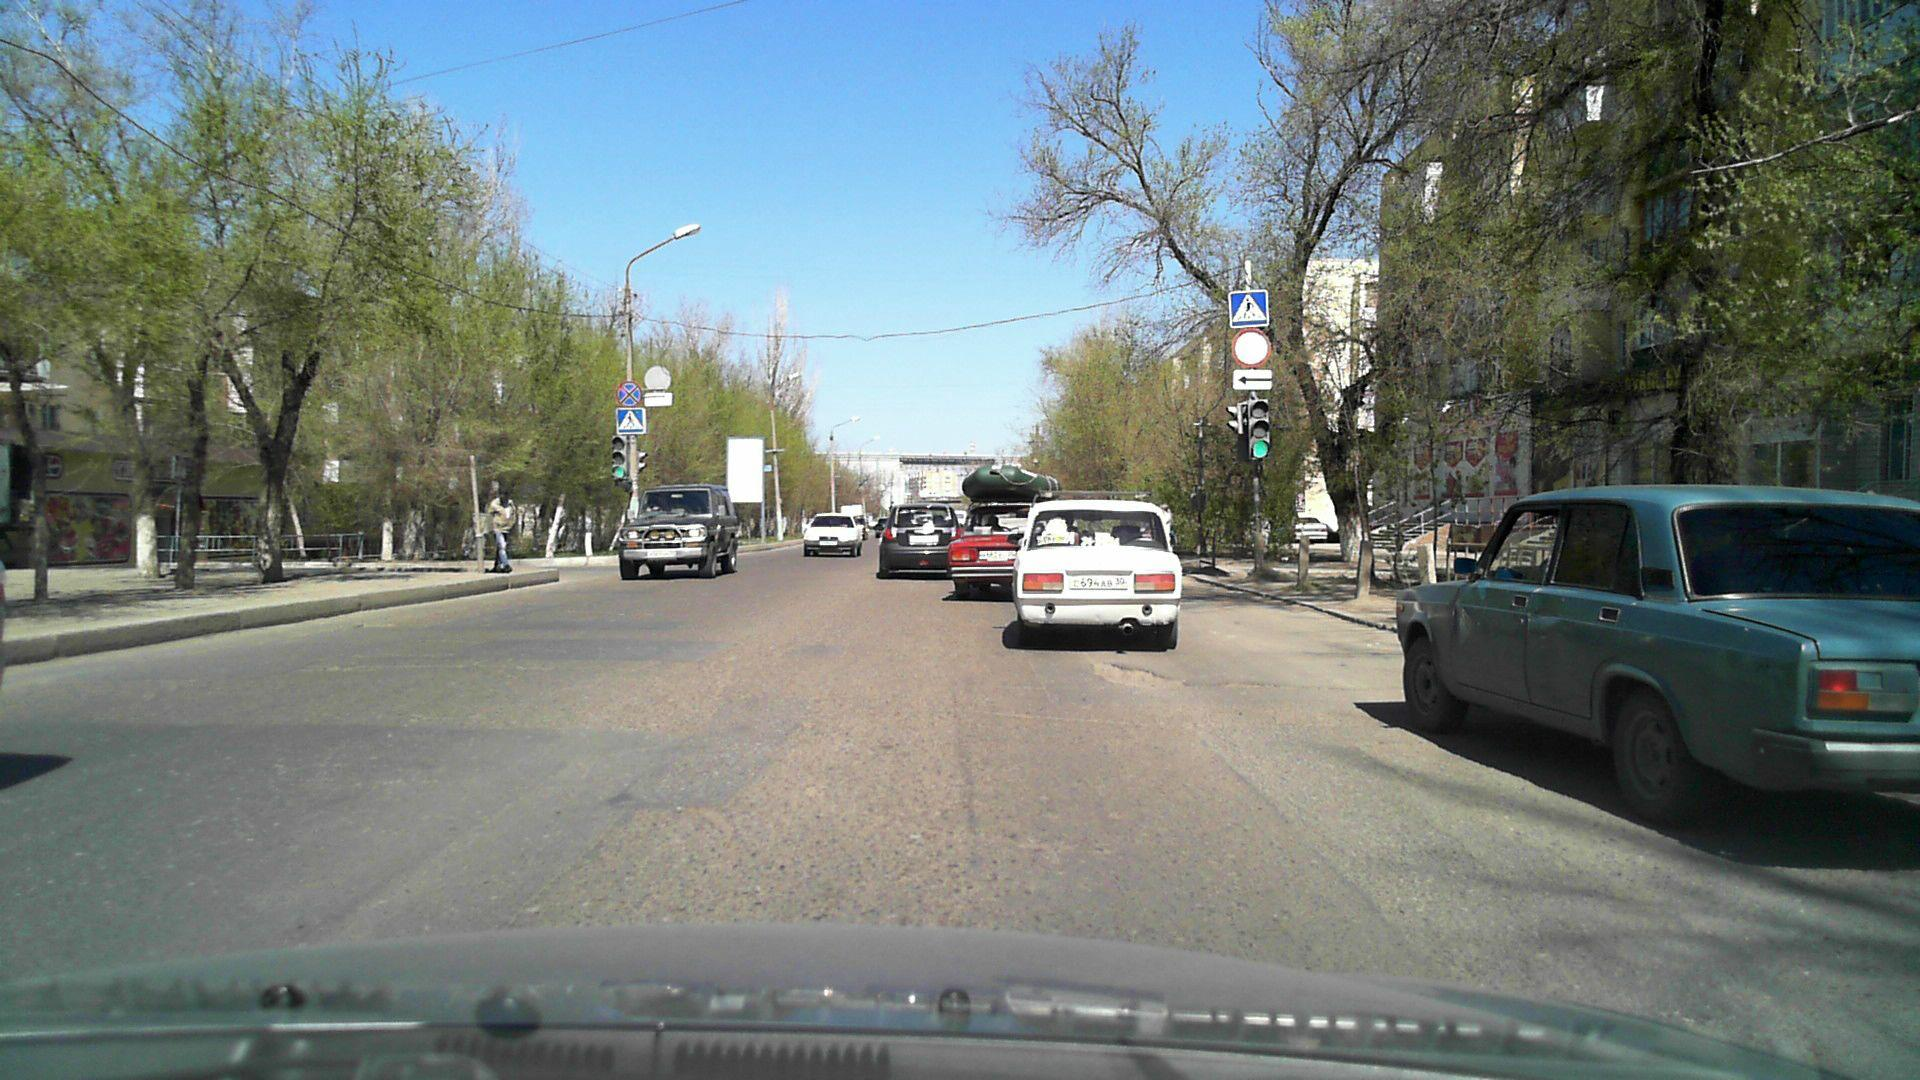3_2: (1233, 332, 1270, 364)
3_27: (616, 378, 644, 407)
5_19_1: (1229, 291, 1269, 327)
5_19_2: (617, 409, 645, 434)
8_3_2: (1232, 368, 1273, 392)
